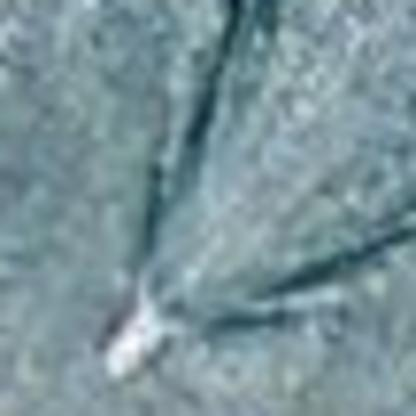ship: (97, 296, 176, 386)
